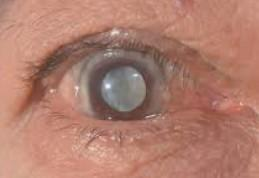eye: (88, 58, 156, 119)
